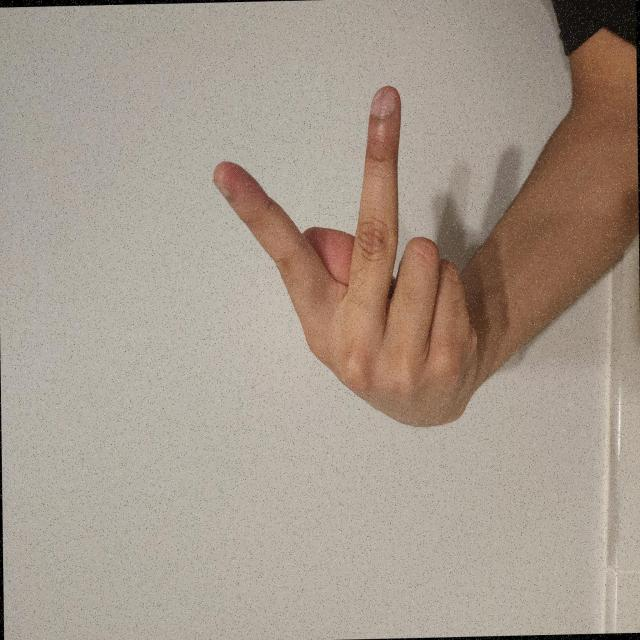K: (152, 281, 421, 640)
